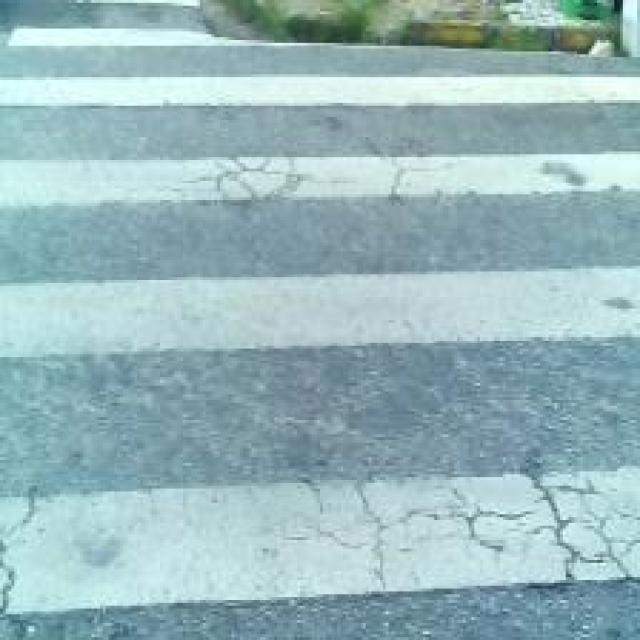walk-crossing: (9, 72, 594, 637)
